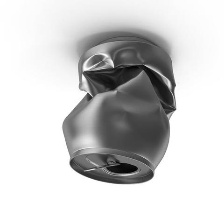can: (57, 32, 181, 185)
